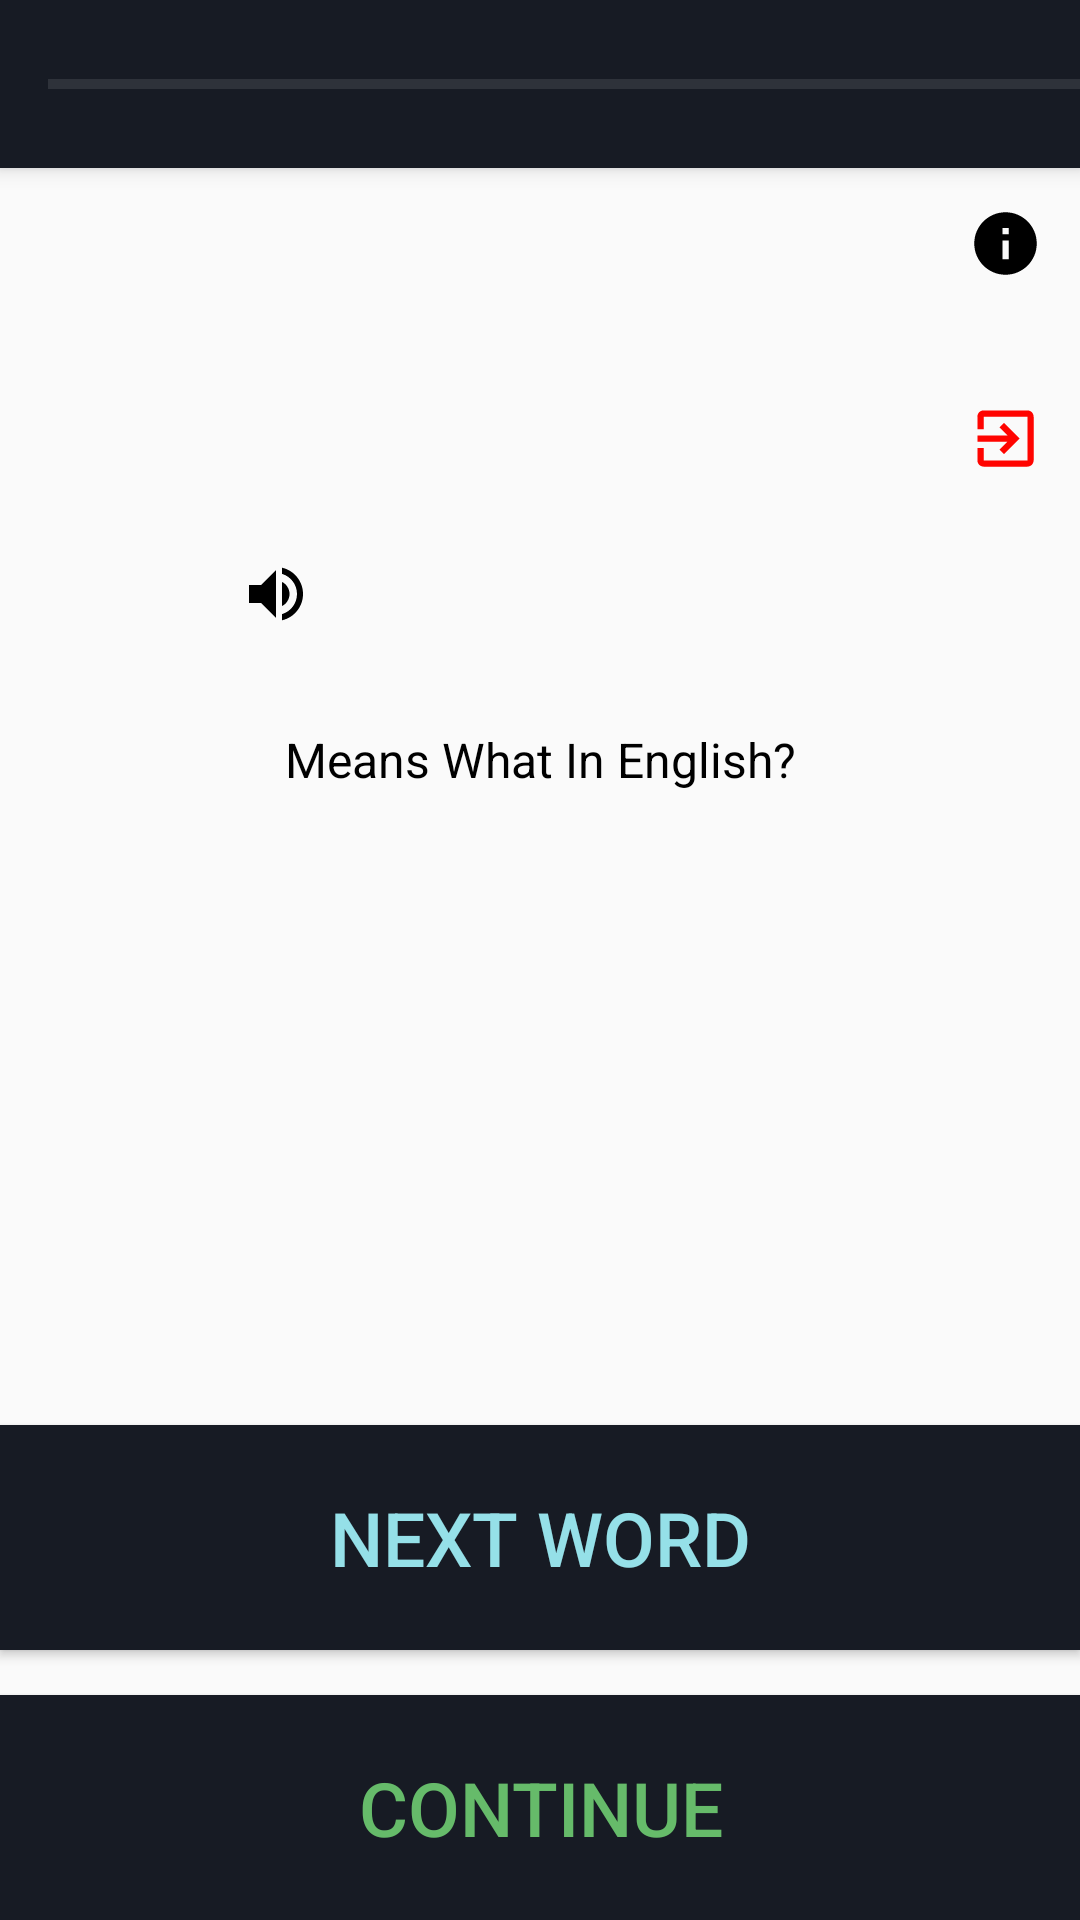

Where icons sit on this 1080px x 1920px app screen, as bbox=(x1, y1, x2, y2):
exit: bbox=(977, 410, 1034, 467)
info: bbox=(974, 212, 1037, 275)
